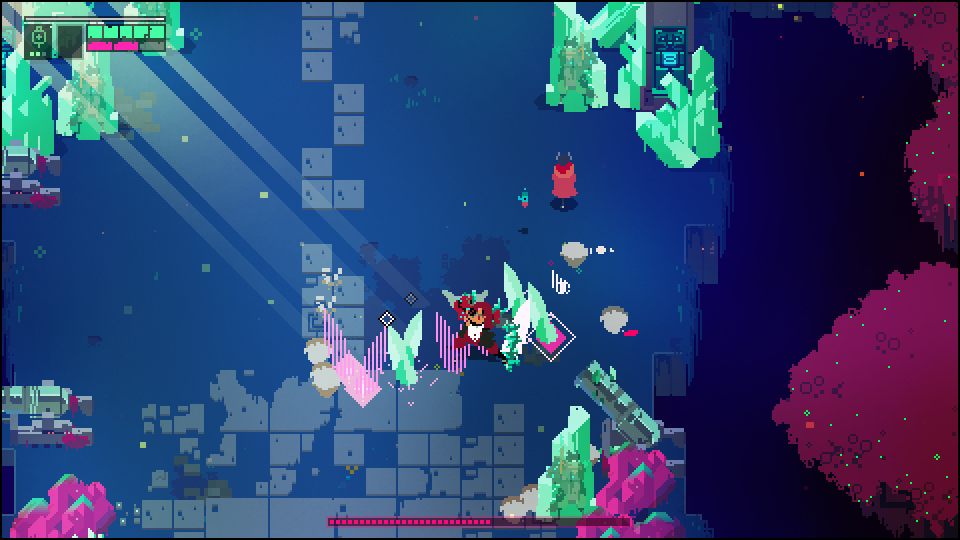hanged_crys: (389, 311, 435, 389), (350, 326, 384, 399), (526, 278, 560, 351), (322, 305, 348, 365)
hanged_man: (444, 284, 524, 374)
player: (550, 150, 578, 209)
